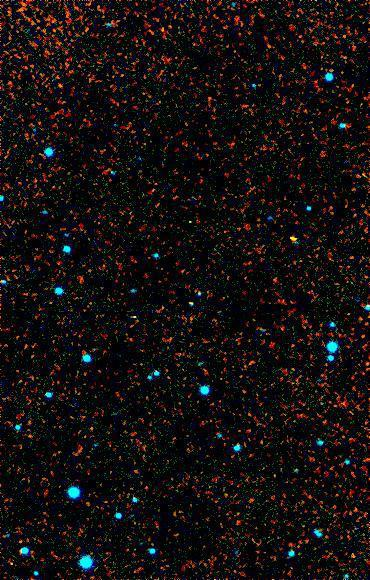star: (279, 225, 309, 255)
